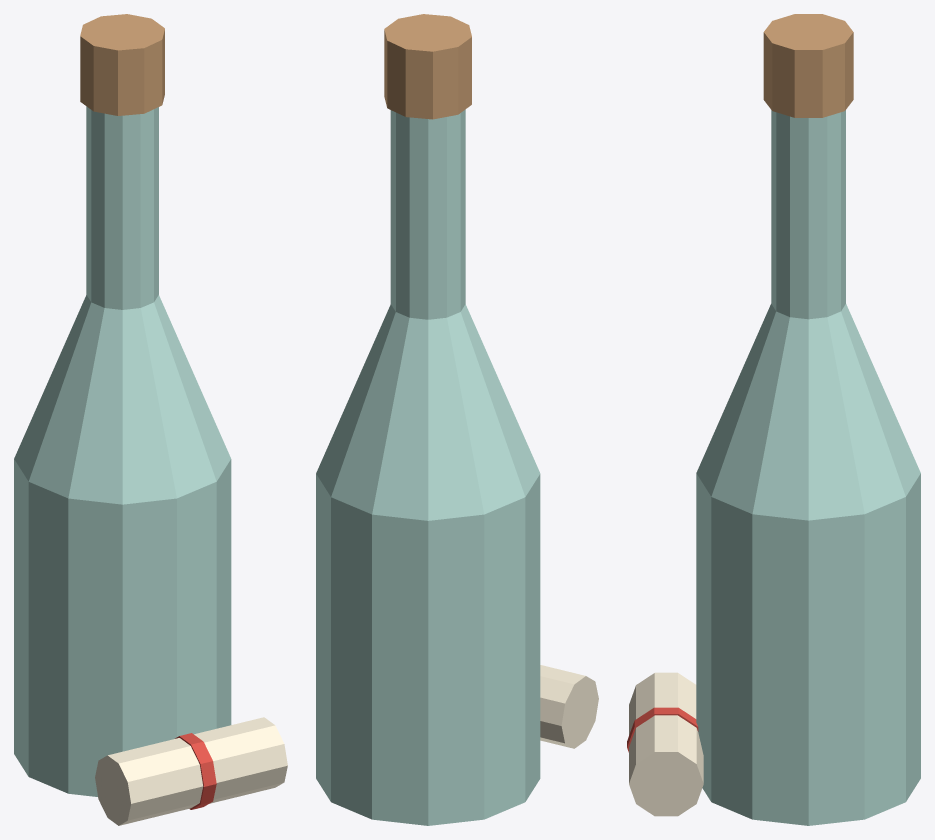
The model's file is vehicle_bottles.glb.
3 views of the same model, side by side, from view 1: azimuth 30°, elevation 25°; view 2: azimuth 150°, elevation 25°; view 3: azimuth 270°, elevation 25° (orthographic). The views are drawn at different scales.
Parts seen in each view (by area): view 1: vehicle_bottles; view 2: vehicle_bottles; view 3: vehicle_bottles.
Part boxes in pixels (<box>): vehicle_bottles: <box>14,14,287,825</box>; vehicle_bottles: <box>316,14,598,825</box>; vehicle_bottles: <box>627,14,920,825</box>.
Bounding box in the file's own units: 0.5455 × 2 × 0.7136.
